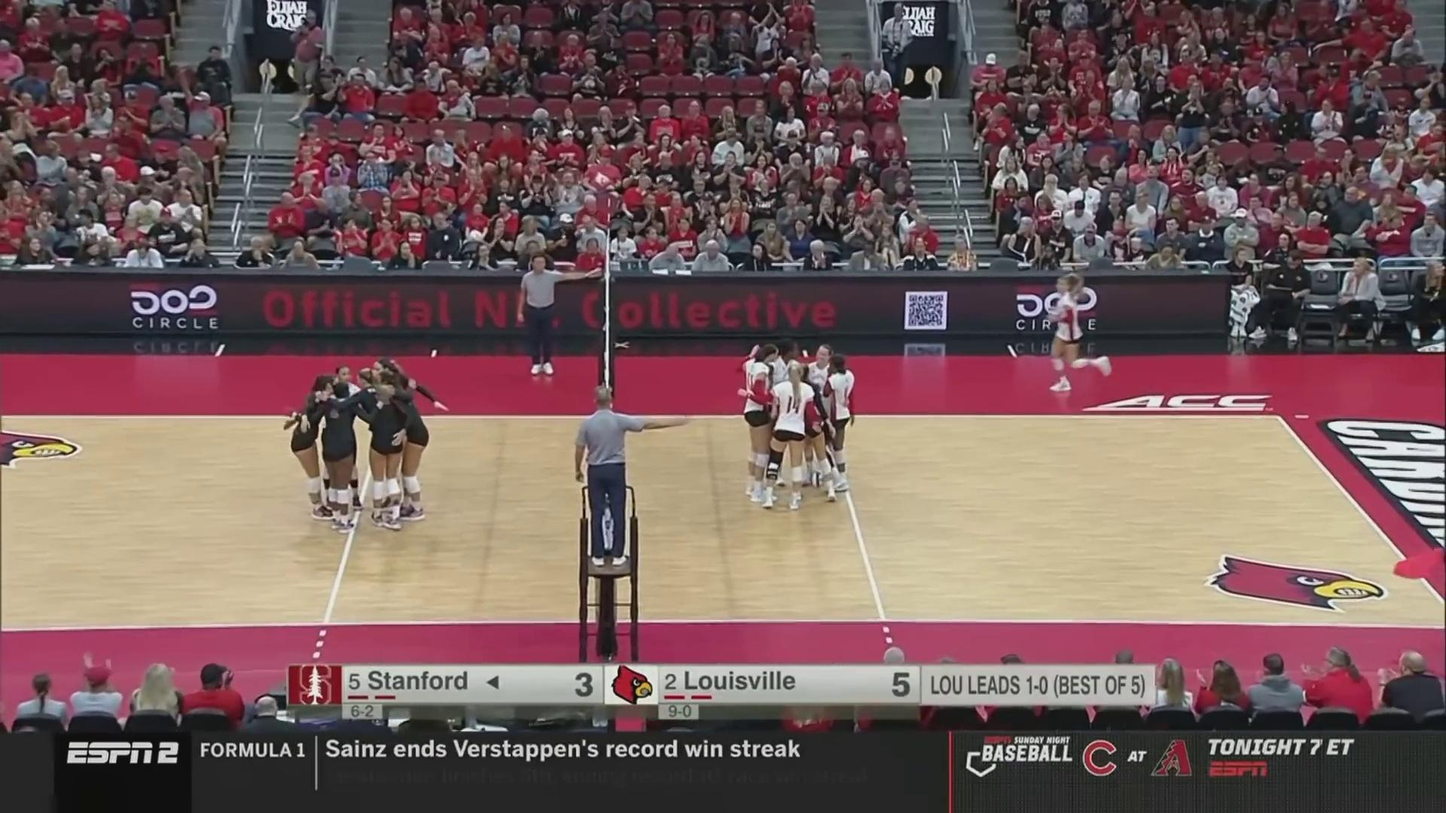player: (336, 371, 409, 523), (376, 359, 438, 525), (309, 384, 372, 533), (755, 361, 815, 510), (288, 375, 340, 520), (1051, 275, 1114, 389), (320, 361, 366, 510), (741, 344, 778, 499), (802, 342, 842, 482), (764, 337, 801, 484), (824, 355, 862, 491)
refree: (576, 394, 652, 564), (518, 255, 598, 374)
